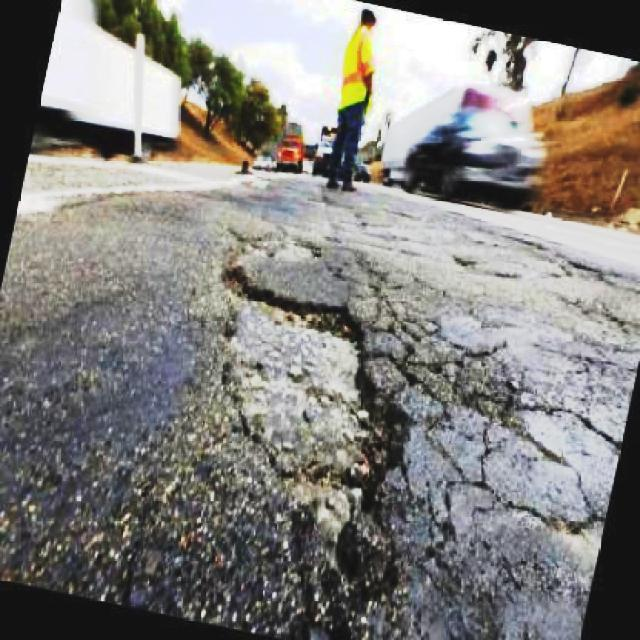pothole: (214, 235, 412, 640)
